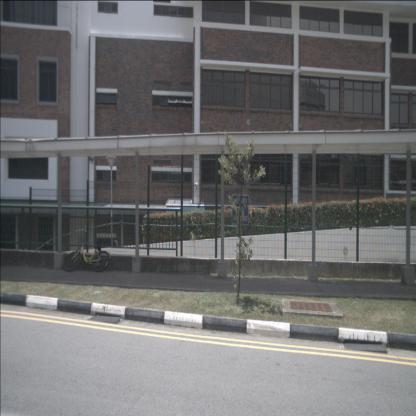vehicle-bicycle: (64, 228, 111, 272)
